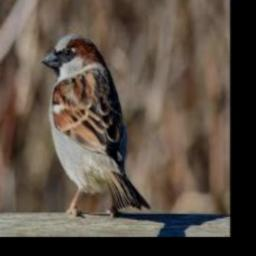Sparrow: (41, 33, 150, 217)
